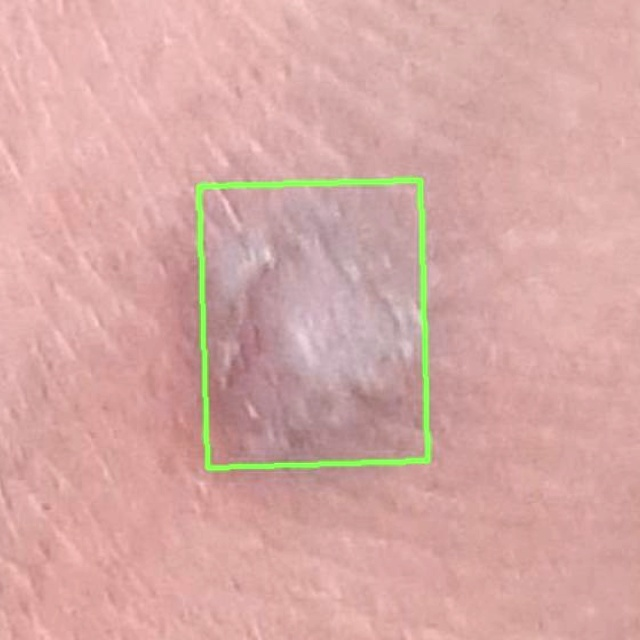Contact Dermatitis: (200, 180, 429, 468)
